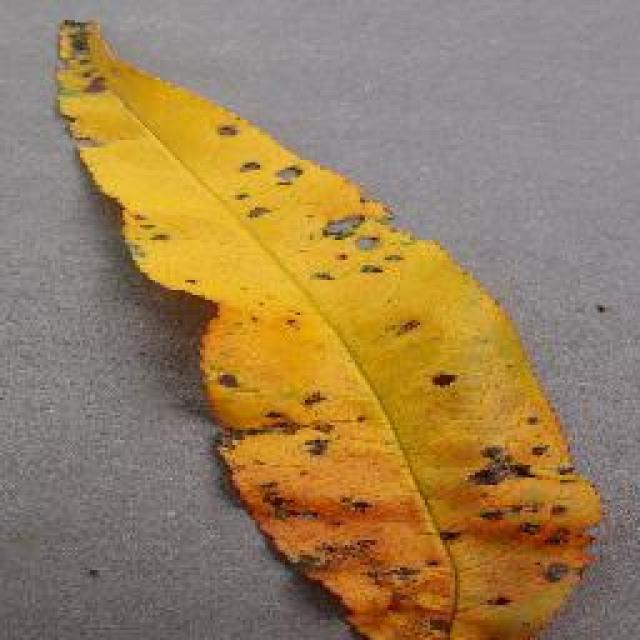Peach_Bacterial_Spot: (81, 31, 568, 640)
